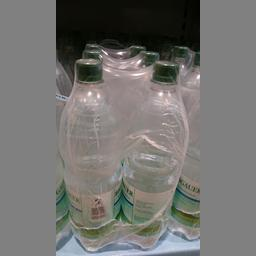water: (114, 58, 188, 248), (58, 56, 121, 250)
